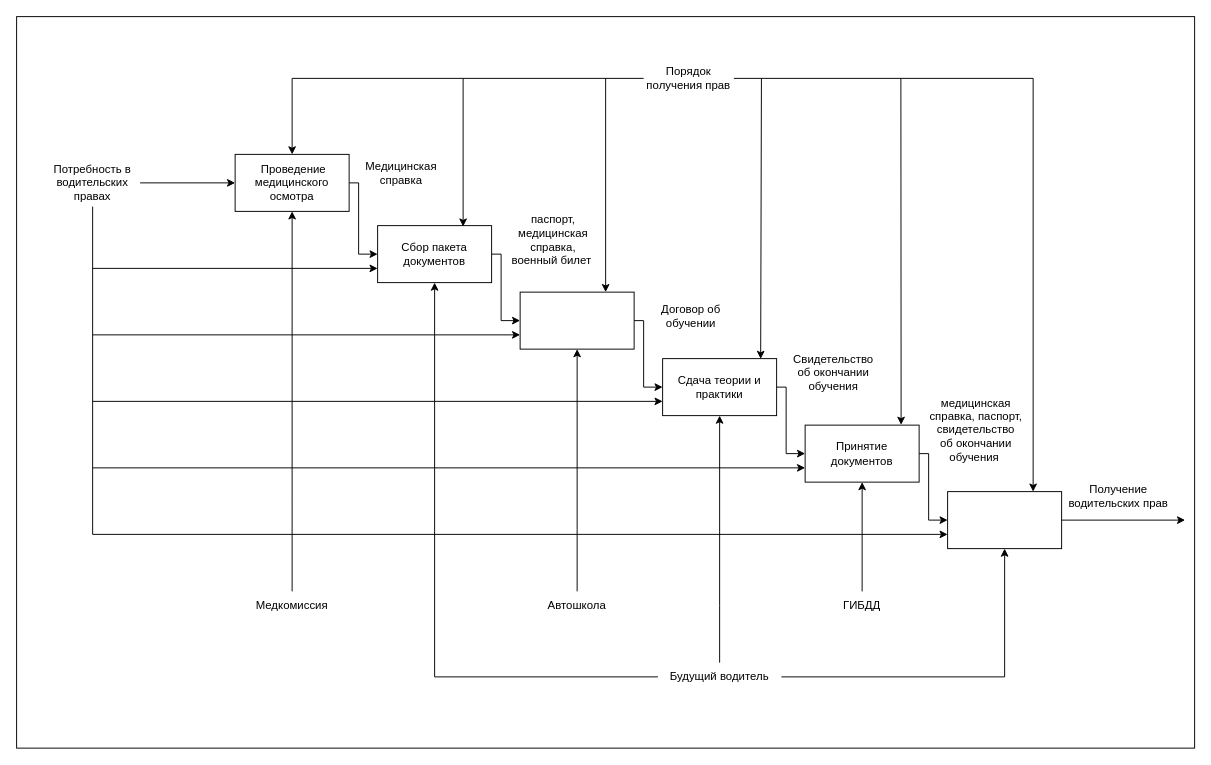
This 1211x765 diagram has some shape labels left out. The shapes that lost their labels are listed below. From the top down, each one's box as (x1, y1, x2, y2) in pixels, then its label:
(519, 291, 634, 349): Принятие на обучение
(947, 491, 1062, 549): Сдача экзамена
